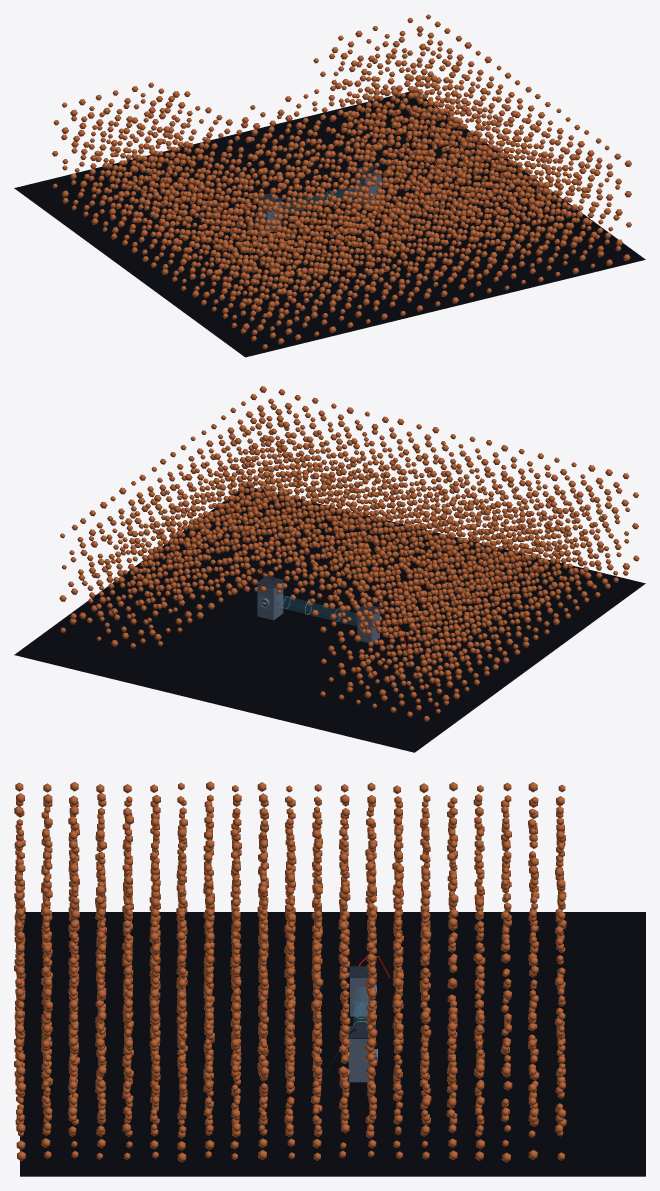
File: InsideTheWire.obj
3 renders of one model, top to bottom at view 1: azimuth 30°, elevation 25°; view 2: azimuth 150°, elevation 25°; view 3: azimuth 270°, elevation 25°, orthographic. The views are drawn at different scales.
Visible parts, largest first — view 1: Wire_Section/Copper_Lattice__2702_atoms_, Wire_Section/Set/Floor; view 2: Wire_Section/Copper_Lattice__2702_atoms_, Wire_Section/Set/Floor, Wire_Section/Set/Conduit, Wire_Section/Set/Terminal_minus/Block; view 3: Wire_Section/Set/Floor, Wire_Section/Copper_Lattice__2702_atoms_, Wire_Section/Set/Terminal_minus/Block, Wire_Section/Set/Terminal_plus/Block.
Boxes of the visible parts, x1,y1,x2,y2 form: Wire_Section/Copper_Lattice__2702_atoms_: (52,14,631,349); Wire_Section/Set/Floor: (14,92,645,357); Wire_Section/Copper_Lattice__2702_atoms_: (59,386,639,721); Wire_Section/Set/Floor: (14,486,645,752); Wire_Section/Set/Conduit: (278,595,356,625); Wire_Section/Set/Terminal_minus/Block: (257,582,283,620); Wire_Section/Set/Floor: (20,912,645,1176); Wire_Section/Copper_Lattice__2702_atoms_: (14,781,566,1162); Wire_Section/Set/Terminal_minus/Block: (348,1039,374,1082); Wire_Section/Set/Terminal_plus/Block: (350,977,369,1016).
Bounding box in the file's own units: 44 × 12.12 × 44.41.
